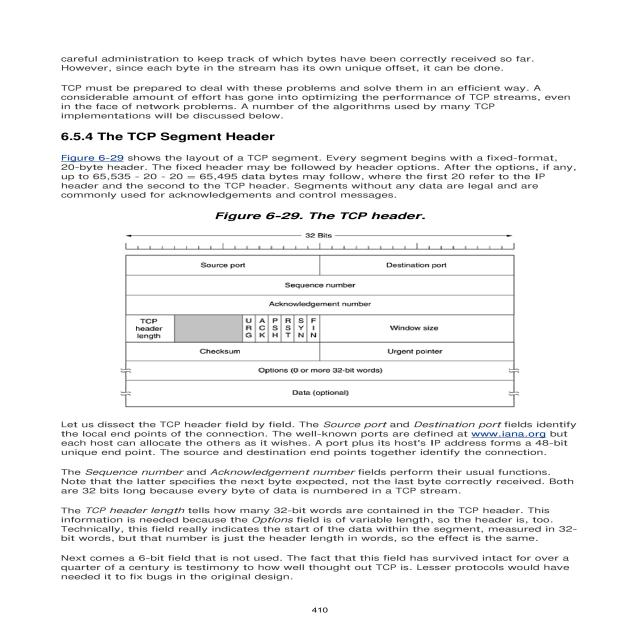diagram: (48, 204, 580, 461)
